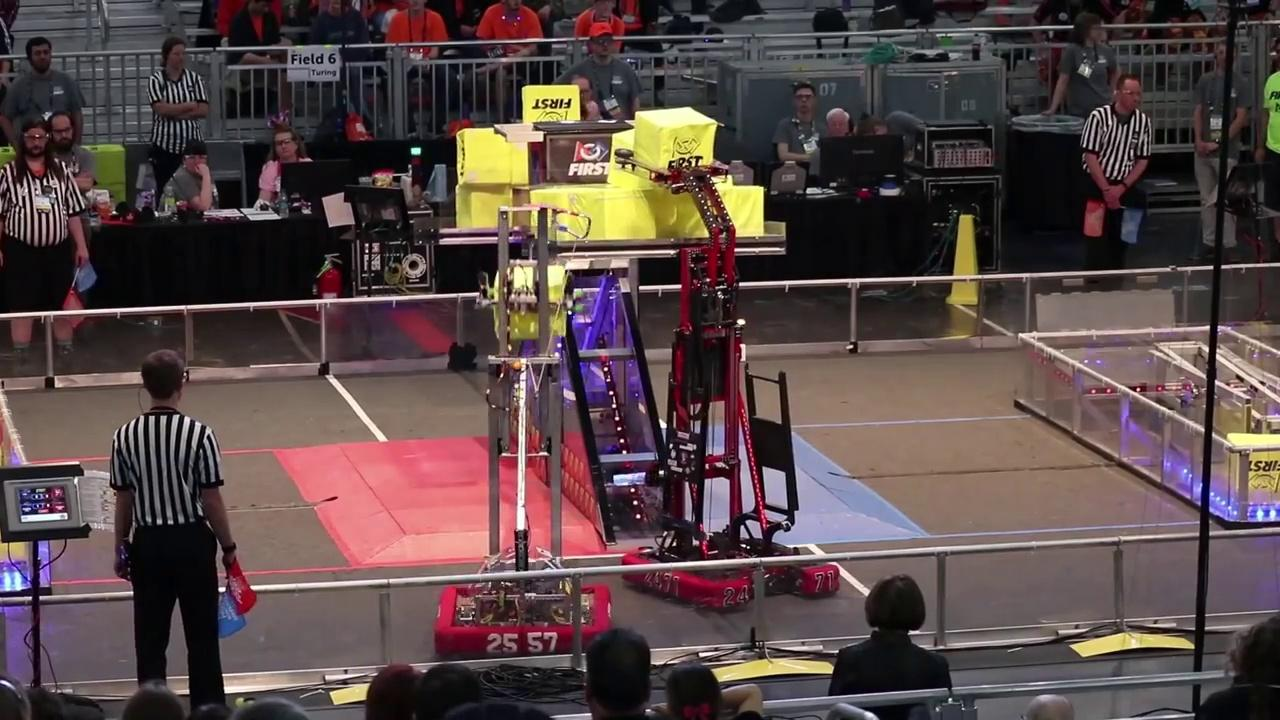robot: (615, 247, 844, 619), (430, 359, 613, 661)
